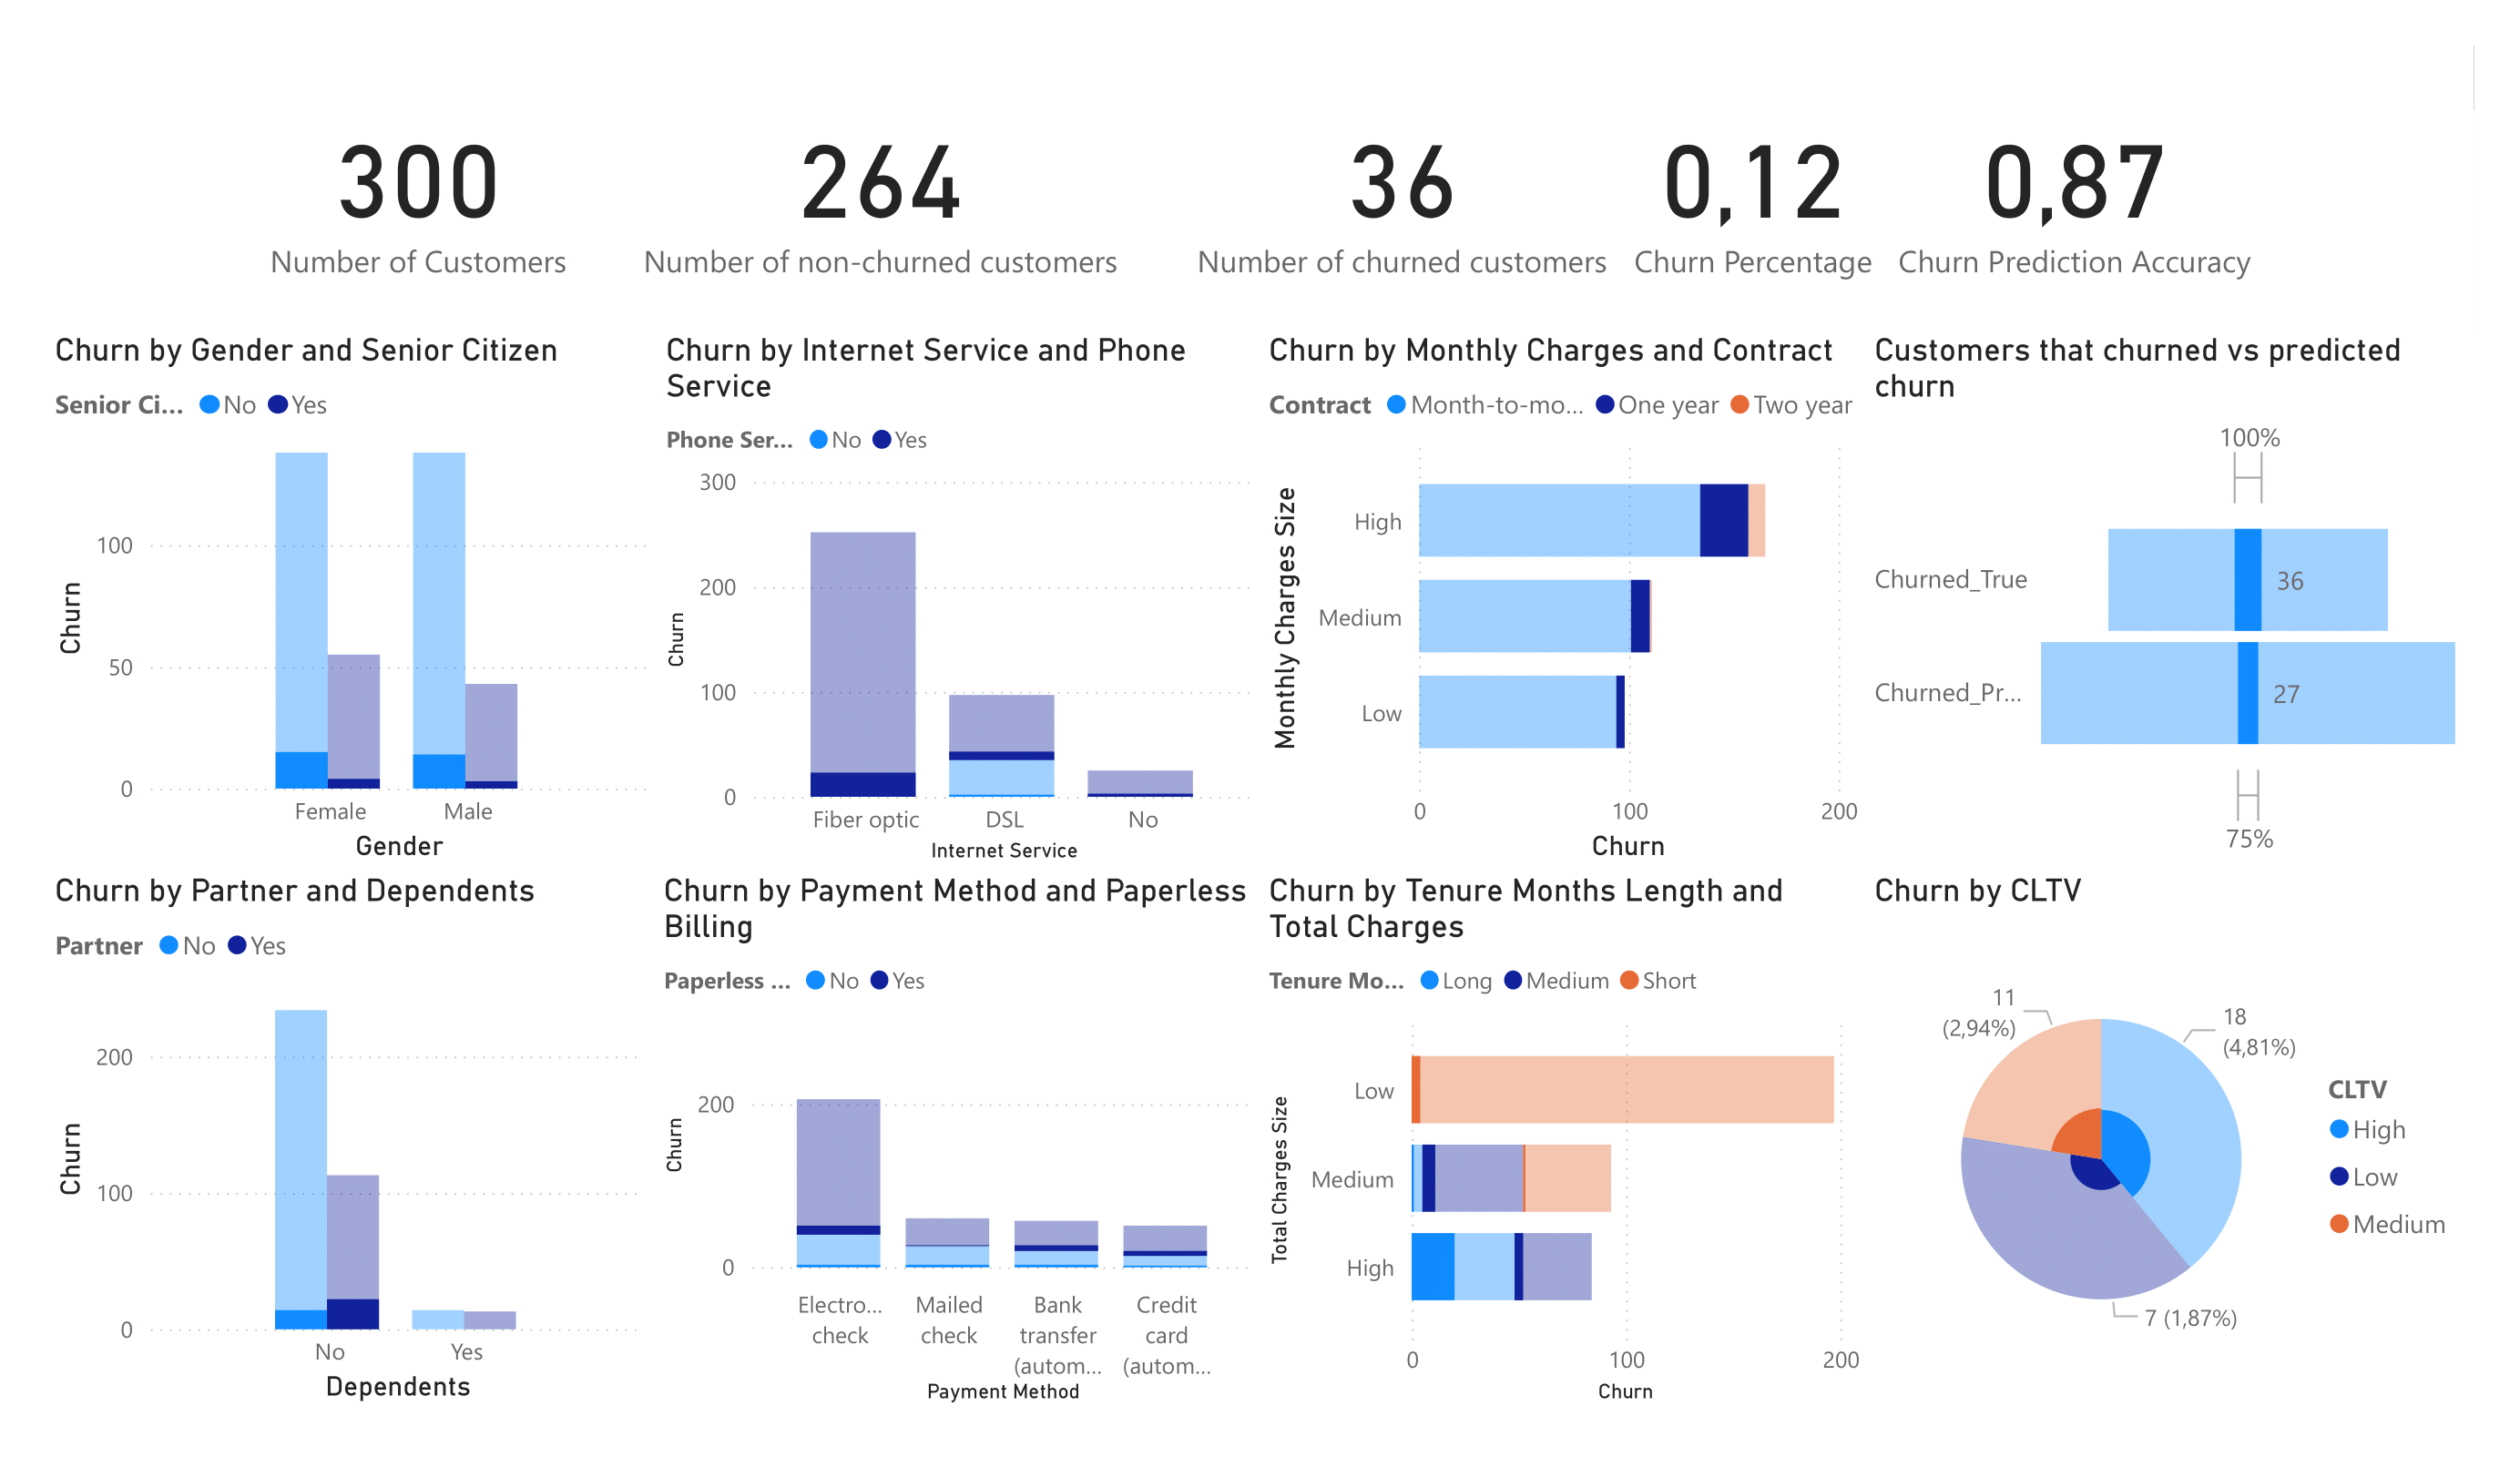

Layout of this report page (visuals, bound fields, positions):
{"tool":"powerbi","page":{"name":"Side 1","canvas":[1280,720],"ordinal":0},"visuals":[{"type":"card","fields":{"Values":["Avg(Forespørgsel1.y_true)"]},"box":[829.7,0,140.1,149.8],"z":0},{"type":"pieChart","title":"Churn by CLTV","fields":{"Y":["Sum(Attributes.y_true)"],"Category":["Attributes.CLTV Size"]},"box":[959,434.8,321,285],"z":1000},{"type":"card","fields":{"Values":["Attributes.Churn Prediction Accuracy"]},"box":[969.7,0,199.4,149.8],"z":2000},{"type":"barChart","title":"Churn by Tenure Months Length and Total Charges","fields":{"Category":["Attributes.Total Charges Size"],"Series":["Attributes.Tenure Months Length"],"Y":["Sum(Attributes.y_true)"]},"box":[640,434.8,321,285],"z":3000},{"type":"barChart","title":"Churn by Monthly Charges and Contract","fields":{"Category":["Attributes.Monthly Charges Size"],"Y":["Sum(Attributes.y_true)"],"Series":["Attributes.Contract"]},"box":[640,149.8,320,285],"z":4000},{"type":"columnChart","title":"Churn by Payment Method and Paperless Billing","fields":{"Category":["Attributes.Payment Method"],"Y":["Sum(Attributes.y_true)"],"Series":["Attributes.Paperless Billing"]},"box":[321,434.8,321,285],"z":5000},{"type":"columnChart","title":"Churn by Internet Service and Phone Service","fields":{"Category":["Attributes.Internet Service"],"Y":["Sum(Attributes.y_true)"],"Series":["Attributes.Phone Service"]},"box":[321.9,149.8,320,285],"z":6000},{"type":"clusteredColumnChart","title":"Churn by Partner and Dependents","fields":{"Category":["Attributes.Dependents"],"Series":["Attributes.Partner"],"Y":["Sum(Attributes.y_true)"]},"box":[0,434.8,321,285],"z":7000},{"type":"clusteredColumnChart","title":"Churn by Gender and Senior Citizen","fields":{"Category":["Attributes.Gender"],"Series":["Attributes.Senior Citizen"],"Y":["Sum(Attributes.y_true)"]},"box":[0,149.8,321.9,285],"z":8000},{"type":"funnel","title":"Customers that churned vs predicted churn","fields":{"Y":["Sum(Attributes.y_true)","Sum(Attributes.y_pred)"]},"box":[959,149.8,321,285],"z":9000},{"type":"card","fields":{"Values":["CountNonNull(Attributes.y_true)"]},"box":[110.9,0,171.2,149.8],"z":10000},{"type":"card","fields":{"Values":["CountNonNull(Attributes.y_true)"]},"box":[600.1,0,229.5,149.8],"z":11000},{"type":"card","fields":{"Values":["CountNonNull(Attributes.y_true)"]},"box":[280.1,0,320,149.8],"z":12000}]}

Visuals, with their boxes in screenshot pixels (x1, y1, x2, y2):
card - Avg(Forespørgsel1.y_true): rect(1757, 66, 2020, 346)
"Churn by CLTV" pieChart: rect(1999, 880, 2519, 1413)
card - Attributes.Churn Prediction Accuracy: rect(2019, 66, 2392, 346)
"Churn by Tenure Months Length and Total Charges" barChart: rect(1402, 880, 2003, 1413)
"Churn by Monthly Charges and Contract" barChart: rect(1402, 346, 2001, 880)
"Churn by Payment Method and Paperless Billing" columnChart: rect(804, 880, 1405, 1413)
"Churn by Internet Service and Phone Service" columnChart: rect(806, 346, 1405, 880)
"Churn by Partner and Dependents" clusteredColumnChart: rect(203, 880, 804, 1413)
"Churn by Gender and Senior Citizen" clusteredColumnChart: rect(203, 346, 806, 880)
"Customers that churned vs predicted churn" funnel: rect(1999, 346, 2519, 880)
card - CountNonNull(Attributes.y_true): rect(411, 66, 731, 346)
card - CountNonNull(Attributes.y_true): rect(1327, 66, 1757, 346)
card - CountNonNull(Attributes.y_true): rect(728, 66, 1327, 346)
